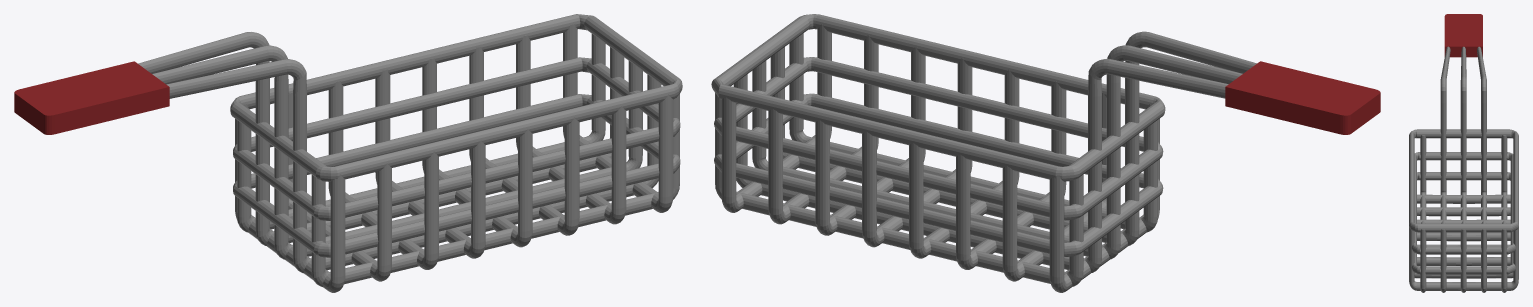
Rendered from fryerbasket.glb.
The picture shows the model from 3 angles, left to right: view 1: azimuth 30°, elevation 25°; view 2: azimuth 150°, elevation 25°; view 3: azimuth 270°, elevation 25°; orthographic projection. The views are drawn at different scales.
Visible parts, largest first — view 1: Cylinder.011; view 2: Cylinder.011; view 3: Cylinder.011.
Part boxes in pixels (x1,y1,x2,y2): Cylinder.011: [14, 14, 682, 292]; Cylinder.011: [711, 14, 1380, 292]; Cylinder.011: [1409, 14, 1518, 292].
Size of the model in its own units: 0.6651 by 0.2292 by 0.1898.
